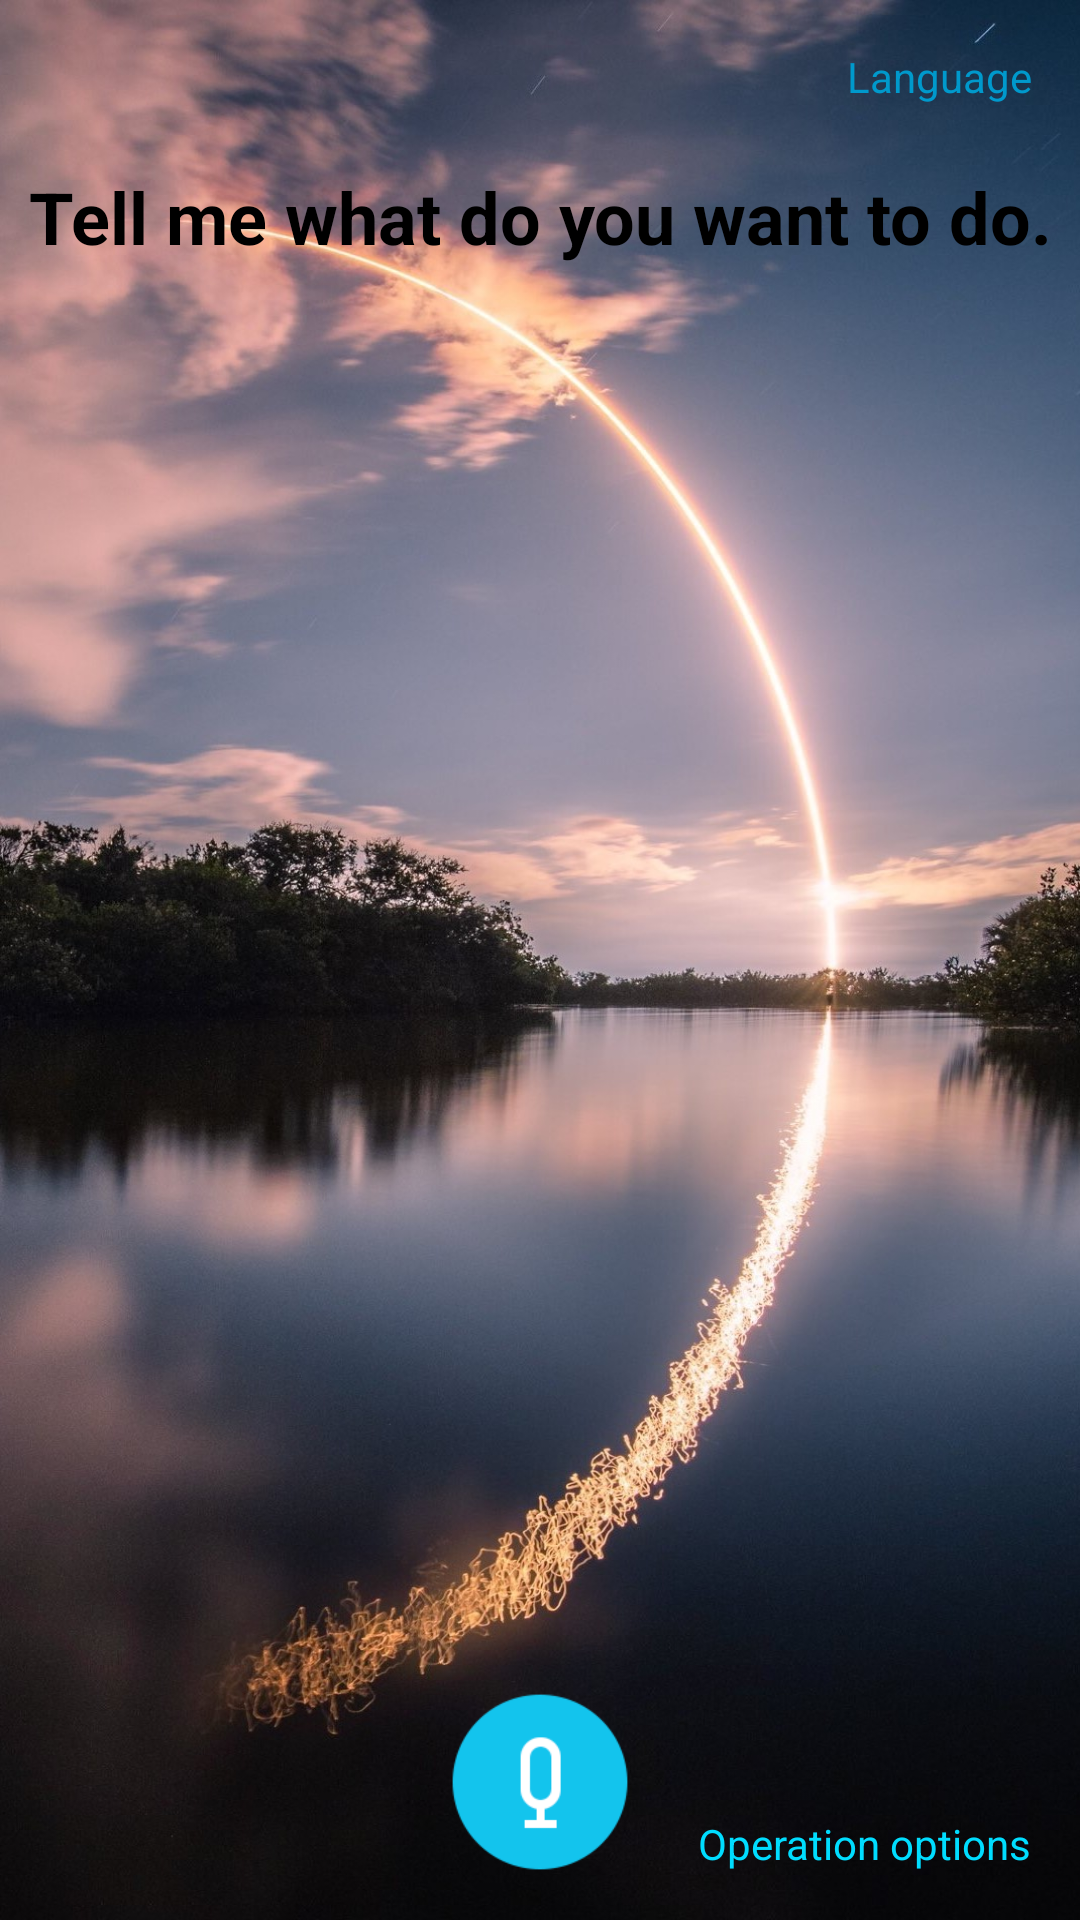

Screen size 1080x1920. Icon name, then its center in pixels as [x,y]:
speekicon: [540,1782]
